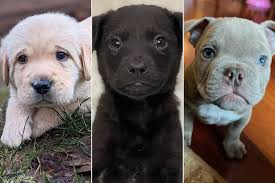dog: (185, 6, 275, 162), (93, 6, 185, 158), (1, 12, 90, 157)
